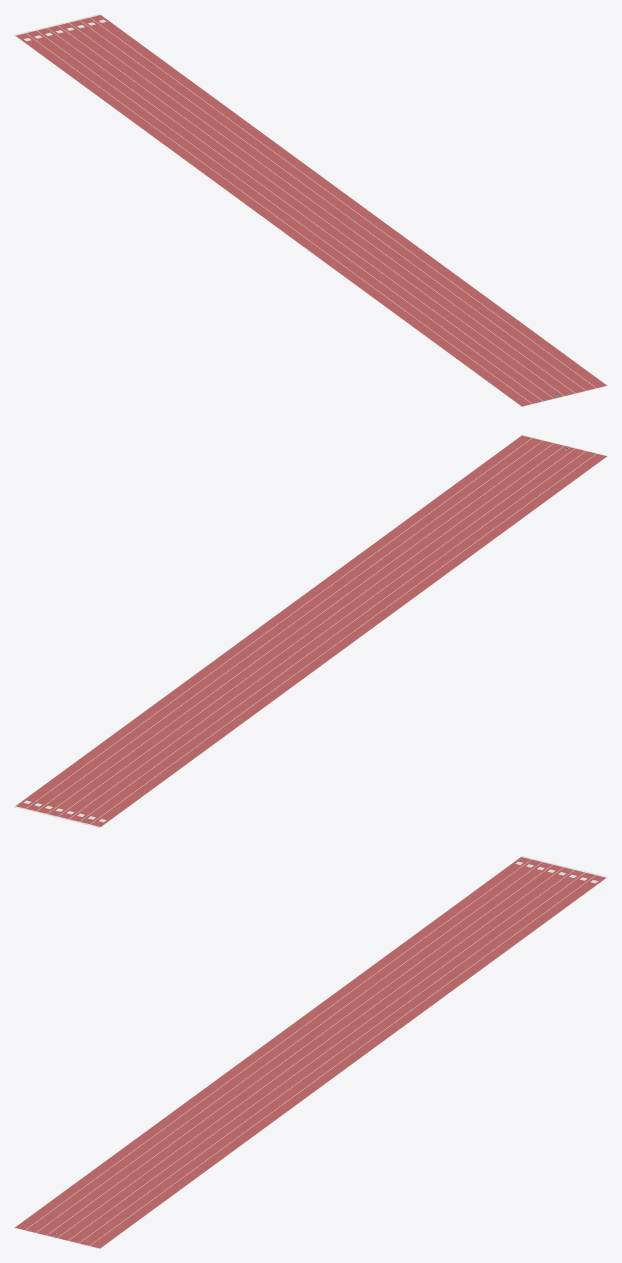
Rendered from 100m track setup.glb.
3 views of the same model, one above another, from view 1: azimuth 30°, elevation 25°; view 2: azimuth 150°, elevation 25°; view 3: azimuth 330°, elevation 25° (orthographic).
Parts seen in each view (by area): view 1: MetaAthletics_100m_Base, MetaAthletics_100m_Divider_0, MetaAthletics_100m_Divider_8, MetaAthletics_100m_Divider_2, MetaAthletics_100m_Divider_5, MetaAthletics_100m_Divider_6, MetaAthletics_100m_Divider_7, MetaAthletics_100m_Divider_1, MetaAthletics_100m_Divider_3, MetaAthletics_100m_Divider_4; view 2: MetaAthletics_100m_Base, MetaAthletics_100m_Divider_0, MetaAthletics_100m_Divider_8, MetaAthletics_100m_Divider_1, MetaAthletics_100m_Divider_6, MetaAthletics_100m_Divider_2, MetaAthletics_100m_Divider_5, MetaAthletics_100m_Divider_7, MetaAthletics_100m_Divider_3, MetaAthletics_100m_Divider_4; view 3: MetaAthletics_100m_Base, MetaAthletics_100m_Divider_8, MetaAthletics_100m_Divider_0, MetaAthletics_100m_Divider_1, MetaAthletics_100m_Divider_2, MetaAthletics_100m_Divider_6, MetaAthletics_100m_Divider_7, MetaAthletics_100m_Divider_3, MetaAthletics_100m_Divider_5, MetaAthletics_100m_Divider_4.
Part boxes in pixels (<box>): MetaAthletics_100m_Base: <box>16,15,606,406</box>; MetaAthletics_100m_Divider_0: <box>14,35,521,406</box>; MetaAthletics_100m_Divider_8: <box>100,14,607,385</box>; MetaAthletics_100m_Divider_2: <box>36,30,543,401</box>; MetaAthletics_100m_Divider_5: <box>68,22,574,392</box>; MetaAthletics_100m_Divider_6: <box>79,20,585,390</box>; MetaAthletics_100m_Divider_7: <box>90,17,596,388</box>; MetaAthletics_100m_Divider_1: <box>26,33,532,403</box>; MetaAthletics_100m_Divider_3: <box>47,28,553,398</box>; MetaAthletics_100m_Divider_4: <box>58,25,563,395</box>; MetaAthletics_100m_Base: <box>16,435,606,826</box>; MetaAthletics_100m_Divider_0: <box>100,456,607,827</box>; MetaAthletics_100m_Divider_8: <box>14,435,521,806</box>; MetaAthletics_100m_Divider_1: <box>89,453,596,824</box>; MetaAthletics_100m_Divider_6: <box>36,440,543,811</box>; MetaAthletics_100m_Divider_2: <box>79,451,585,821</box>; MetaAthletics_100m_Divider_5: <box>47,443,553,813</box>; MetaAthletics_100m_Divider_7: <box>26,438,532,808</box>; MetaAthletics_100m_Divider_3: <box>69,449,574,818</box>; MetaAthletics_100m_Divider_4: <box>58,445,564,816</box>; MetaAthletics_100m_Base: <box>15,857,605,1248</box>; MetaAthletics_100m_Divider_8: <box>100,877,607,1248</box>; MetaAthletics_100m_Divider_0: <box>14,856,521,1227</box>; MetaAthletics_100m_Divider_1: <box>25,859,531,1230</box>; MetaAthletics_100m_Divider_2: <box>36,862,542,1232</box>; MetaAthletics_100m_Divider_6: <box>78,872,585,1243</box>; MetaAthletics_100m_Divider_7: <box>89,874,596,1245</box>; MetaAthletics_100m_Divider_3: <box>47,865,552,1234</box>; MetaAthletics_100m_Divider_5: <box>68,870,574,1240</box>; MetaAthletics_100m_Divider_4: <box>58,867,563,1237</box>.
Size of the model in its own units: 9.81 by 0.2245 by 100.
